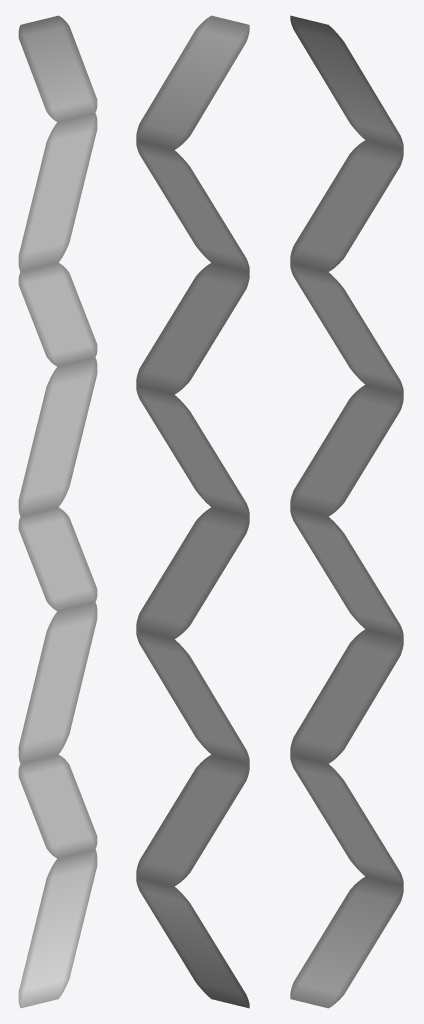
The picture shows the model from 3 angles, left to right: view 1: azimuth 30°, elevation 25°; view 2: azimuth 150°, elevation 25°; view 3: azimuth 330°, elevation 25°; orthographic projection.
Visible parts, largest first — view 1: T1L2M007_26; view 2: T1L2M007_26; view 3: T1L2M007_26.
Boxes of the visible parts, x1=… form: T1L2M007_26: x1=18, y1=15, x2=97, y2=1008; T1L2M007_26: x1=136, y1=15, x2=249, y2=1008; T1L2M007_26: x1=290, y1=15, x2=403, y2=1008.
Bounding box in the file's own units: 0.041 × 0.3613 × 0.0127.
1 material, 1 textured.
